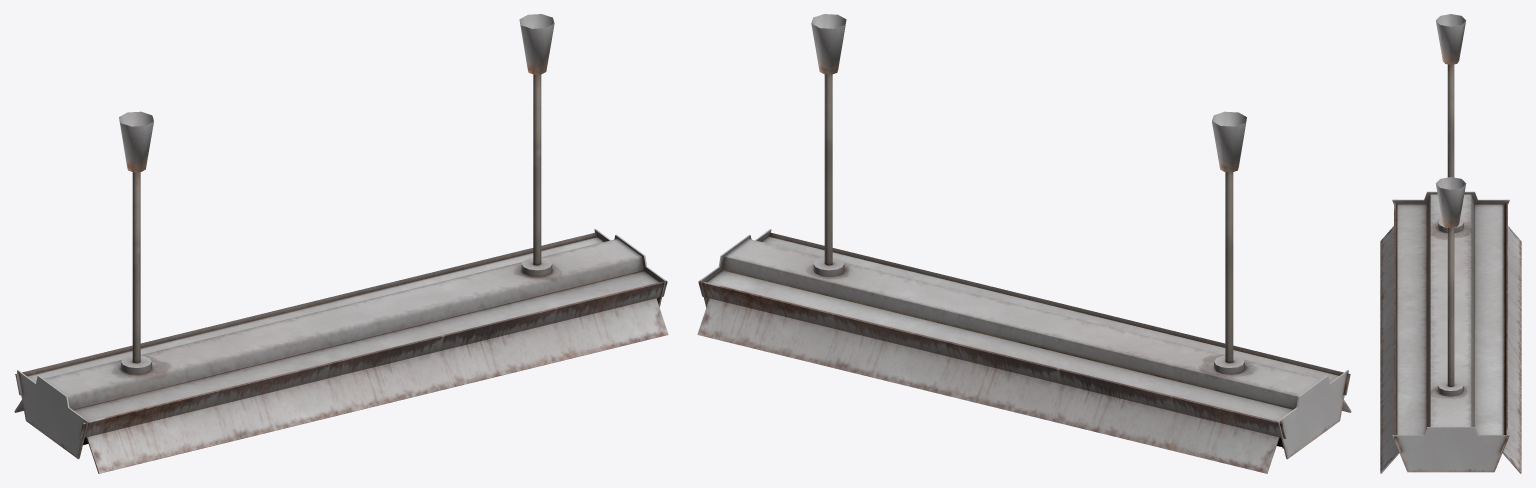
3 views of the same model, side by side, from view 1: azimuth 30°, elevation 25°; view 2: azimuth 150°, elevation 25°; view 3: azimuth 270°, elevation 25° (orthographic). The views are drawn at different scales.
Parts seen in each view (by area): view 1: LDS2; view 2: LDS2; view 3: LDS2.
Boxes of the visible parts, bbox=[...] form: LDS2: bbox=[14, 14, 668, 473]; LDS2: bbox=[697, 14, 1351, 473]; LDS2: bbox=[1380, 14, 1521, 473].
Size of the model in its own units: 48.75 by 24.33 by 12.28.
1 material, 1 textured.
